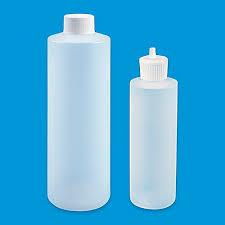Container for household chemicals: (36, 12, 114, 214), (128, 47, 180, 211)
